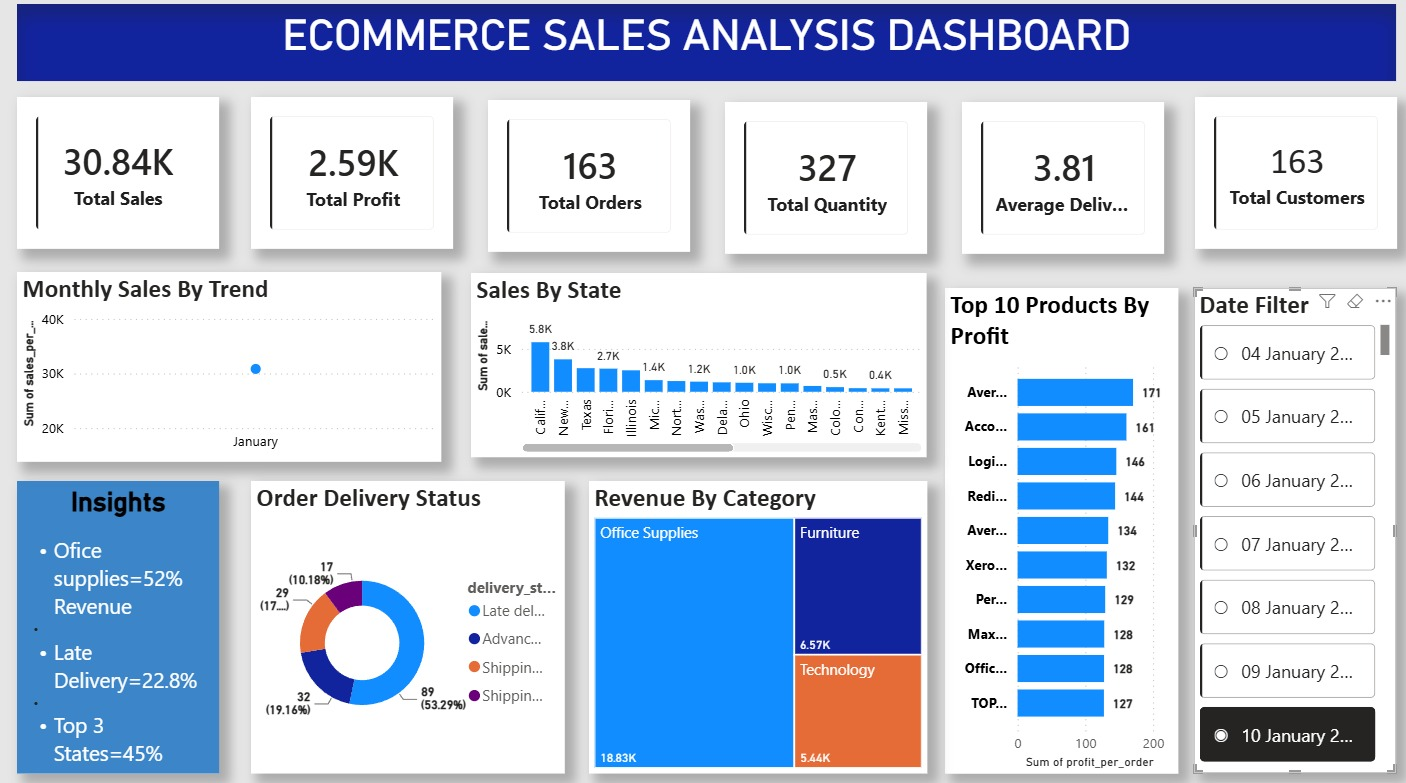

What the dashboard file says about the page in this screenshot:
{"tool":"powerbi","page":{"name":"Page 1","canvas":[1280,720],"ordinal":0},"visuals":[{"type":"cardVisual","fields":{"Data":["ecommerce_data_excel.TOTAL SALES"]},"box":[16.1,101,181,136],"z":0},{"type":"cardVisual","fields":{"Data":["ecommerce_data_excel.Total Profit"]},"box":[225.4,101,181.5,136.1],"z":1000},{"type":"cardVisual","fields":{"Data":["ecommerce_data_excel.Total Orders"]},"box":[437.6,103.9,181.5,136.1],"z":2000},{"type":"cardVisual","fields":{"Data":["ecommerce_data_excel.Total Quantity"]},"box":[649.8,105.4,181.5,136.1],"z":3000},{"type":"cardVisual","fields":{"Data":["ecommerce_data_excel.Average Delivery Days"]},"box":[862,105.4,181.5,136.1],"z":4000},{"type":"cardVisual","fields":{"Data":["ecommerce_data_excel.Total Customers"]},"box":[1071.2,101,181,136],"z":5000},{"type":"lineChart","title":"Monthly Sales By Trend","fields":{"Category":["ecommerce_data_excel.order_date.Variation.Date Hierarchy.Month"],"Y":["Sum(ecommerce_data_excel.sales_per_order)"]},"box":[16.1,257.6,380.5,169.8],"z":6000},{"type":"clusteredBarChart","title":"Top 10 Products By Profit","fields":{"Category":["ecommerce_data_excel.product_name"],"Y":["Sum(ecommerce_data_excel.profit_per_order)"]},"box":[847.3,272.2,209.3,434.6],"z":7000},{"type":"donutChart","title":"Order Delivery Status","fields":{"Category":["ecommerce_data_excel.delivery_status"],"Y":["CountNonNull(ecommerce_data_excel.order_id)"]},"box":[225.4,444.9,281,262],"z":8000},{"type":"clusteredColumnChart","title":"Sales By State","fields":{"Category":["ecommerce_data_excel.customer_state"],"Y":["Sum(ecommerce_data_excel.sales_per_order)"]},"box":[422.9,259,408.3,165.4],"z":9000},{"type":"treemap","title":"Revenue By Category","fields":{"Values":["Sum(ecommerce_data_excel.sales_per_order)"],"Group":["ecommerce_data_excel.category_name"]},"box":[528.3,444.9,302.9,262],"z":10000},{"type":"advancedSlicerVisual","title":"Date Filter","fields":{"Values":["ecommerce_data_excel.order_date"]},"box":[1081.5,267.8,181.5,434.6],"z":11000},{"type":"textbox","box":[16.1,17.6,1235.1,68.8],"z":11001},{"type":"textbox","box":[16.1,444.9,181.5,262],"z":11002}]}

Visuals, with their boxes in screenshot pixels (x1, y1, x2, y2), scaled from the page's 1280x720 canvas onto the 1406x783 screenshot:
cardVisual - ecommerce_data_excel.TOTAL SALES: bbox=[18, 110, 217, 258]
cardVisual - ecommerce_data_excel.Total Profit: bbox=[248, 110, 447, 258]
cardVisual - ecommerce_data_excel.Total Orders: bbox=[481, 113, 680, 261]
cardVisual - ecommerce_data_excel.Total Quantity: bbox=[714, 115, 913, 263]
cardVisual - ecommerce_data_excel.Average Delivery Days: bbox=[947, 115, 1146, 263]
cardVisual - ecommerce_data_excel.Total Customers: bbox=[1177, 110, 1375, 258]
"Monthly Sales By Trend" lineChart: bbox=[18, 280, 436, 465]
"Top 10 Products By Profit" clusteredBarChart: bbox=[931, 296, 1161, 769]
"Order Delivery Status" donutChart: bbox=[248, 484, 556, 769]
"Sales By State" clusteredColumnChart: bbox=[465, 282, 913, 462]
"Revenue By Category" treemap: bbox=[580, 484, 913, 769]
"Date Filter" advancedSlicerVisual: bbox=[1188, 291, 1387, 764]
textbox: bbox=[18, 19, 1374, 94]
textbox: bbox=[18, 484, 217, 769]
